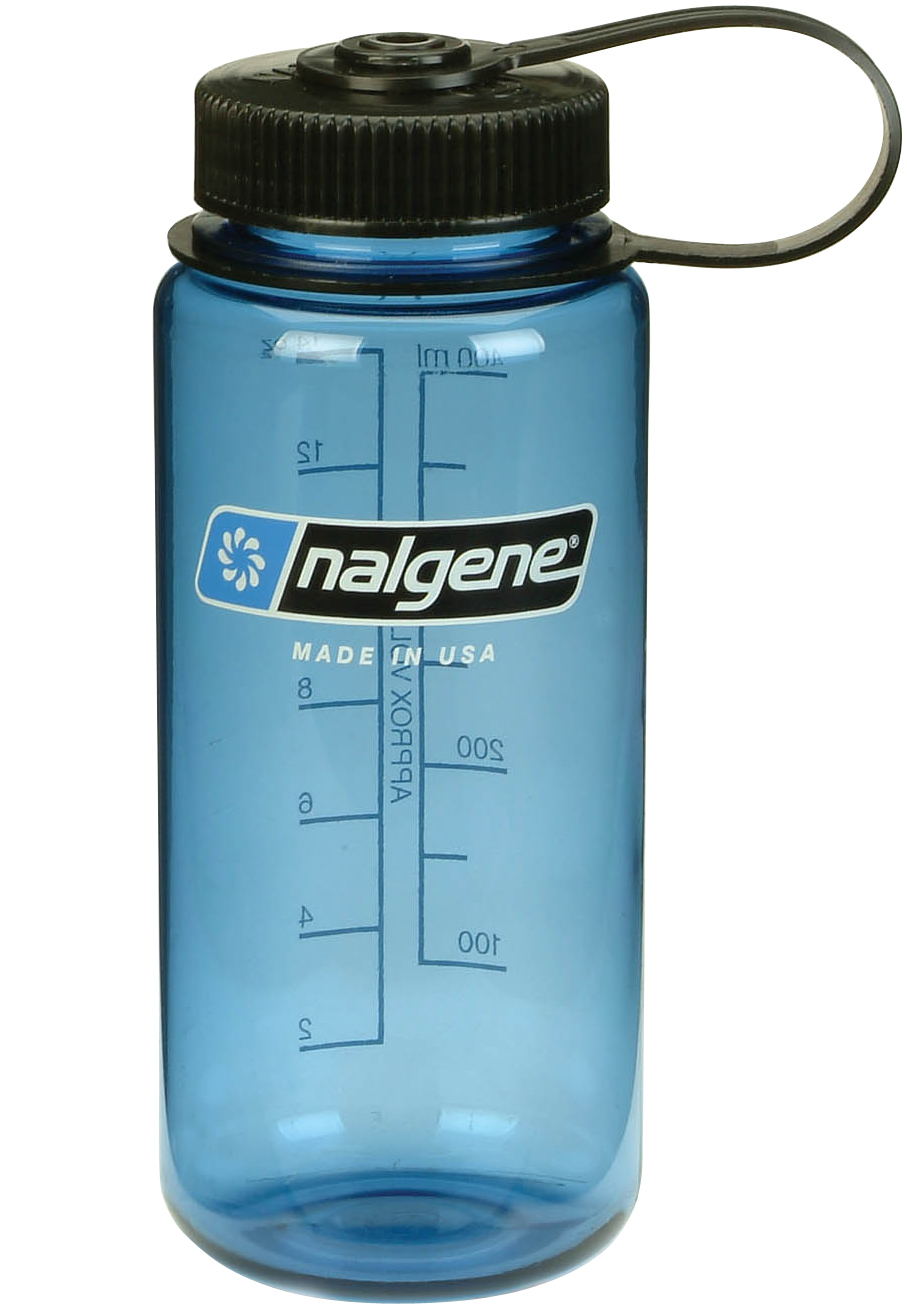Rec_Plastic: (145, 38, 696, 1268)
